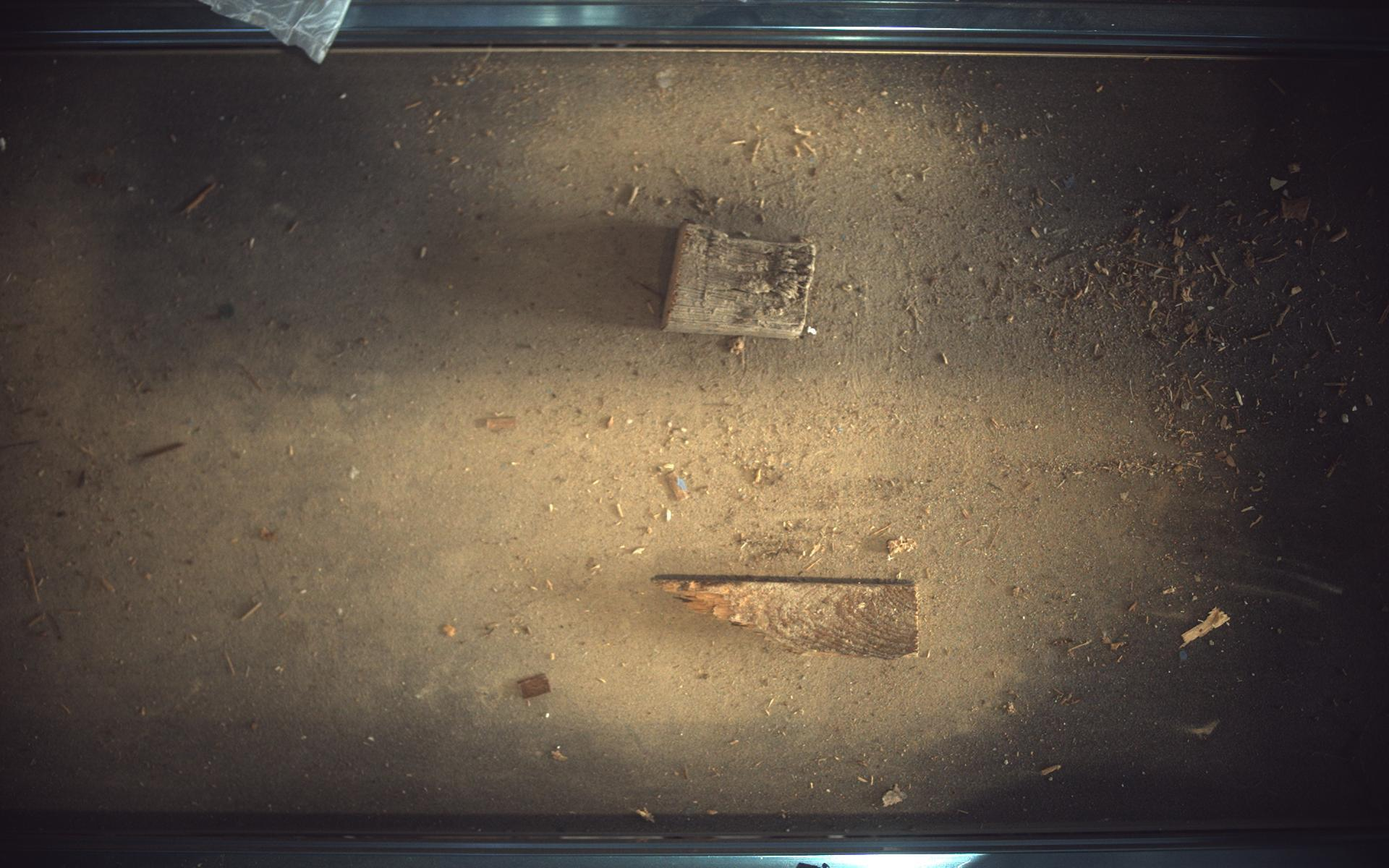wood: (654, 575, 921, 660), (663, 221, 816, 339)
